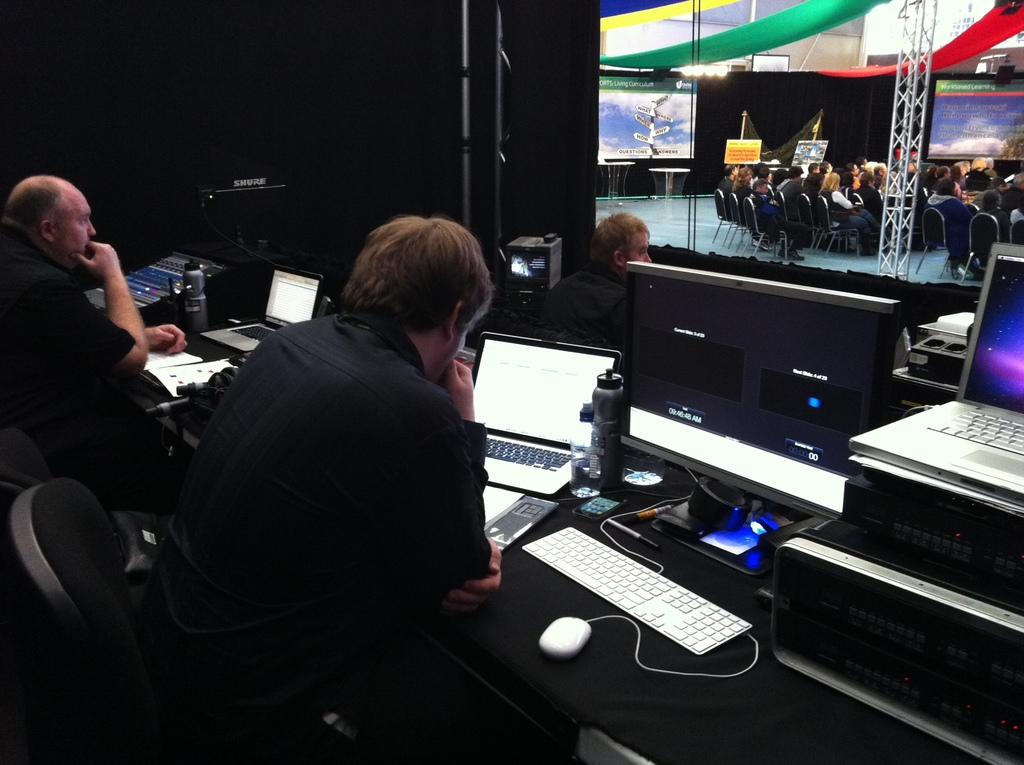Person: (155, 216, 503, 726), (0, 174, 185, 505), (719, 153, 1024, 278), (529, 212, 654, 355)
